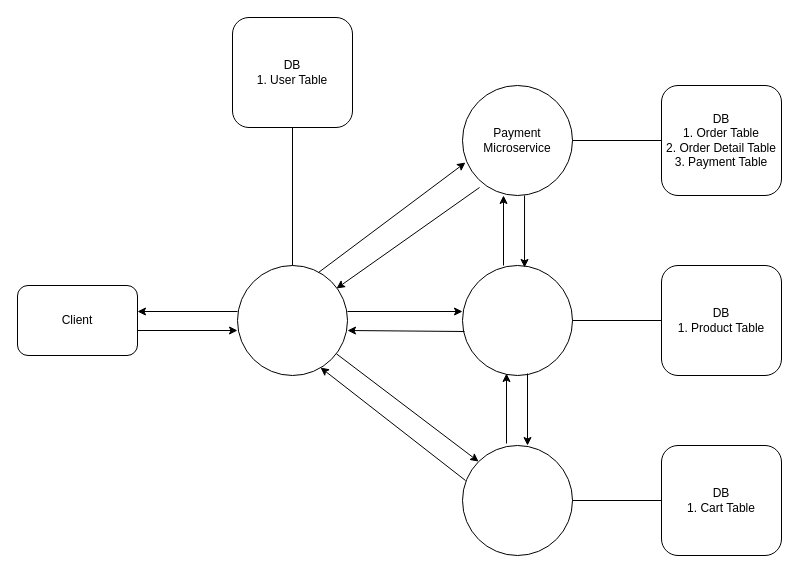
Some shapes in this 799 by 573 pixel diagram are drawn without their labels. Each missing label, with the centre of its shape:
"API Gateway" belongs at (292,320).
"Cart Microservice" belongs at (517,500).
"Product Microservice" belongs at (517,320).
